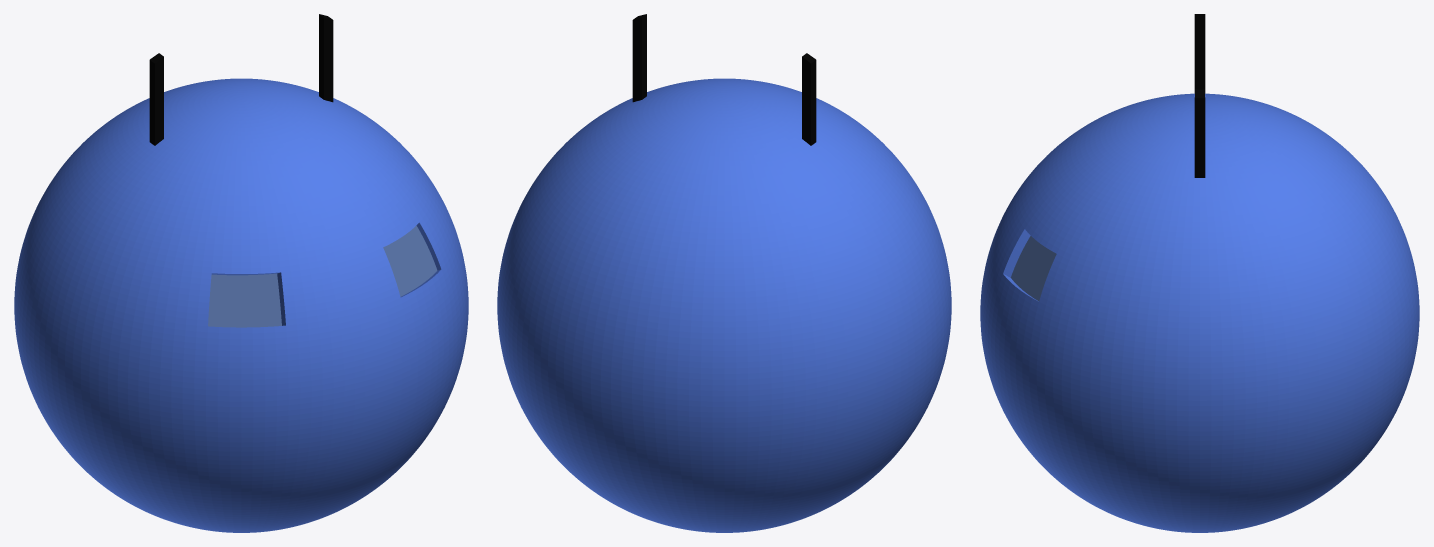
File: campus-drone.glb
The picture shows the model from 3 angles, left to right: view 1: azimuth 30°, elevation 25°; view 2: azimuth 150°, elevation 25°; view 3: azimuth 270°, elevation 25°; orthographic projection. The views are drawn at different scales.
Parts seen in each view (by area): view 1: Sphere; view 2: Sphere; view 3: Sphere.
Part boxes in pixels (x1,y1,x2,y2): Sphere: (14,14,468,532); Sphere: (497,14,951,532); Sphere: (980,14,1419,532).
Bounding box in the file's own units: 1 × 1.16 × 1.
